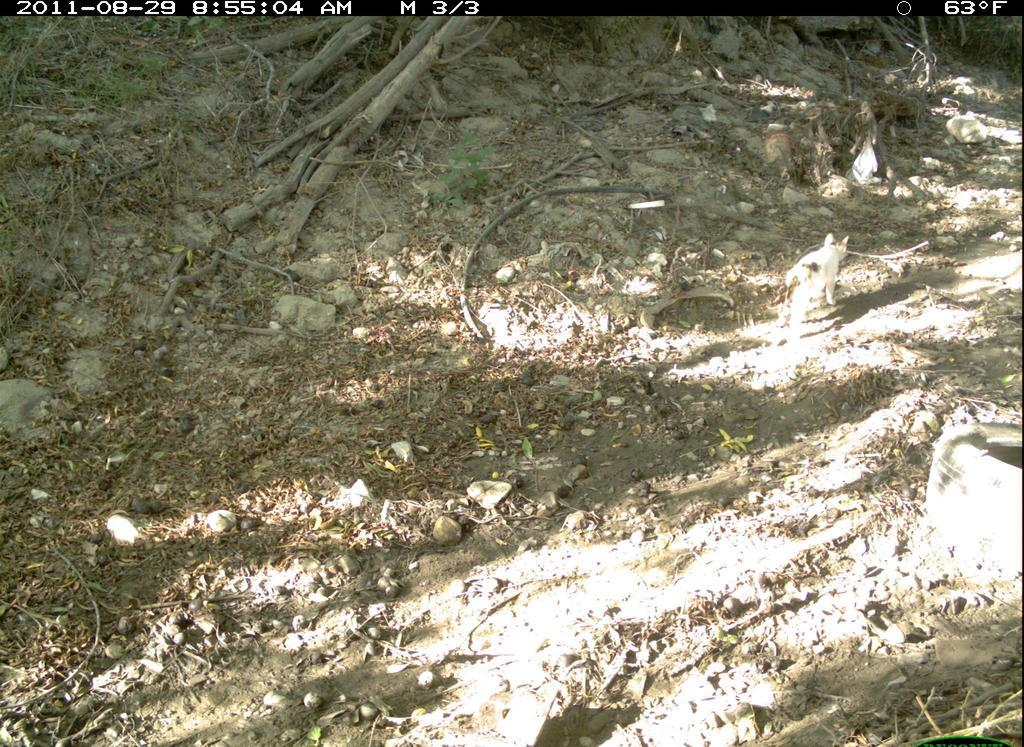cat: (769, 205, 868, 342)
